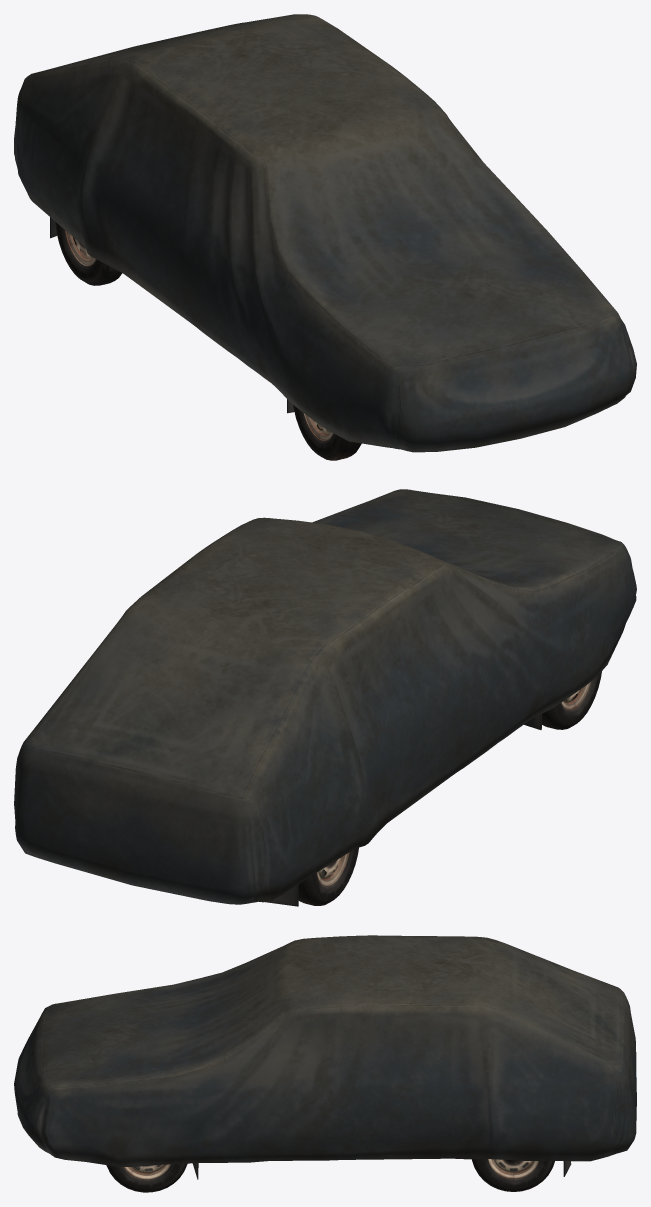
Rendered from CoveredCar_astral3d.optimize.glb.
3 renders of one model, top to bottom at view 1: azimuth 30°, elevation 25°; view 2: azimuth 150°, elevation 25°; view 3: azimuth 270°, elevation 25°, orthographic. The views are drawn at different scales.
Parts seen in each view (by area): view 1: covered_car_wheel_01; view 2: covered_car_wheel_01; view 3: covered_car_wheel_01.
Part boxes in pixels (x1=…): covered_car_wheel_01: x1=14, y1=14, x2=636, y2=460; covered_car_wheel_01: x1=14, y1=489, x2=636, y2=906; covered_car_wheel_01: x1=14, y1=935, x2=636, y2=1192.
Size of the model in its own units: 1.79 by 1.41 by 4.38.
1 material, 1 textured.
